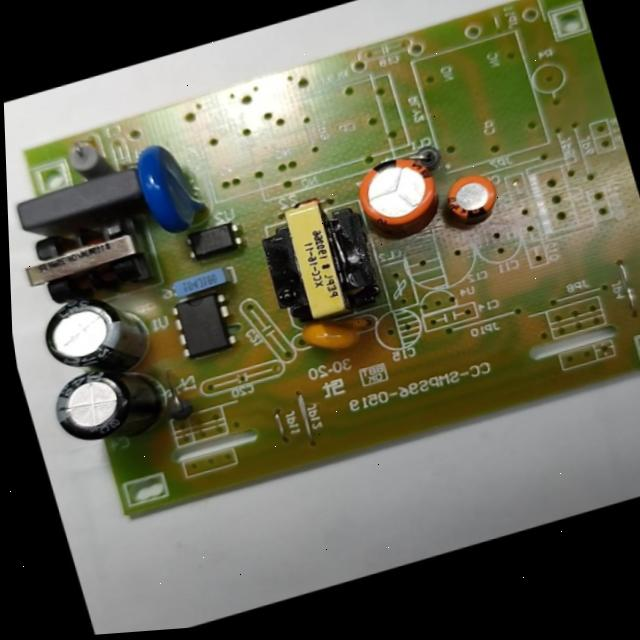Cap1: (345, 144, 450, 239)
Cap2: (439, 166, 506, 228)
Cap3: (30, 276, 159, 387)
Cap4: (42, 350, 182, 458)
MOSFET: (162, 286, 242, 365)
Mov: (124, 129, 216, 246)
Resistor: (54, 126, 123, 190)
Transformer: (248, 182, 390, 335), (11, 202, 168, 314)
